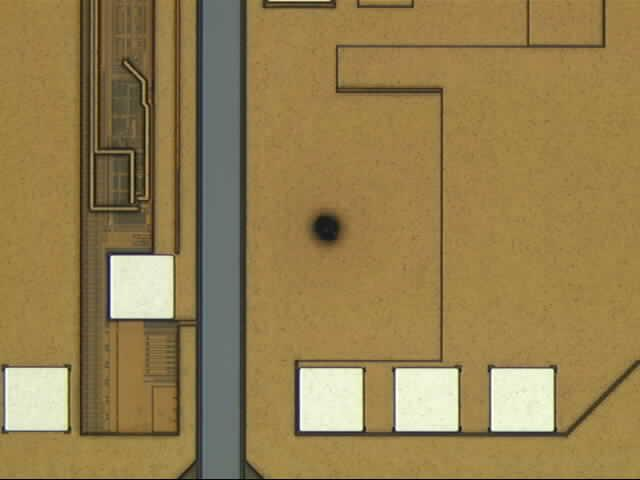PIQ PARTICLE: (304, 205, 352, 253)
